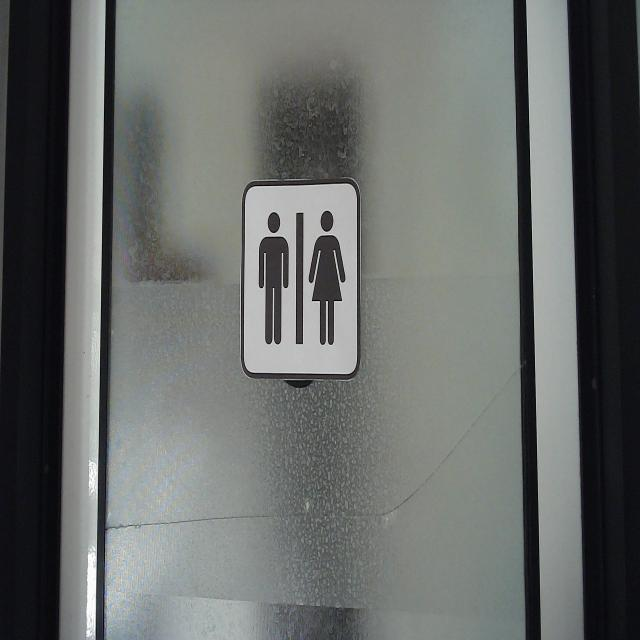restroom: (238, 174, 364, 384)
